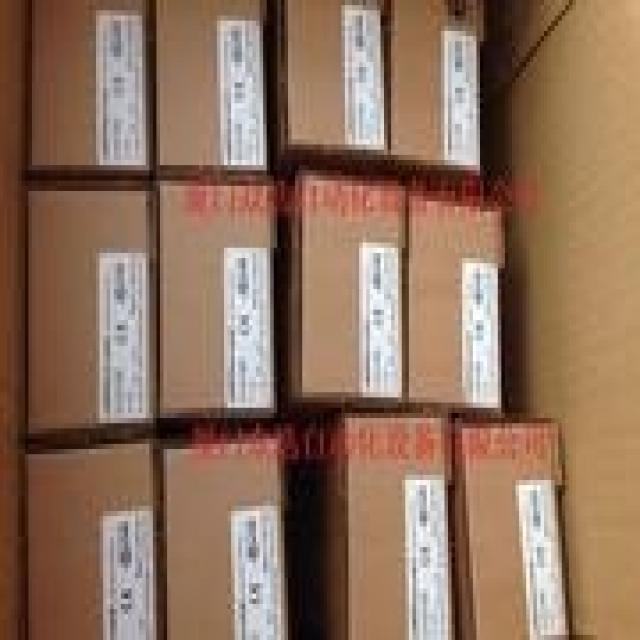box: (1, 0, 636, 634), (27, 184, 156, 446), (157, 177, 276, 421), (284, 173, 407, 406), (326, 414, 455, 635), (23, 439, 160, 635), (158, 434, 284, 635), (405, 179, 508, 420), (457, 417, 569, 635), (31, 1, 155, 175), (266, 0, 389, 172), (152, 0, 269, 172), (389, 3, 485, 179)
